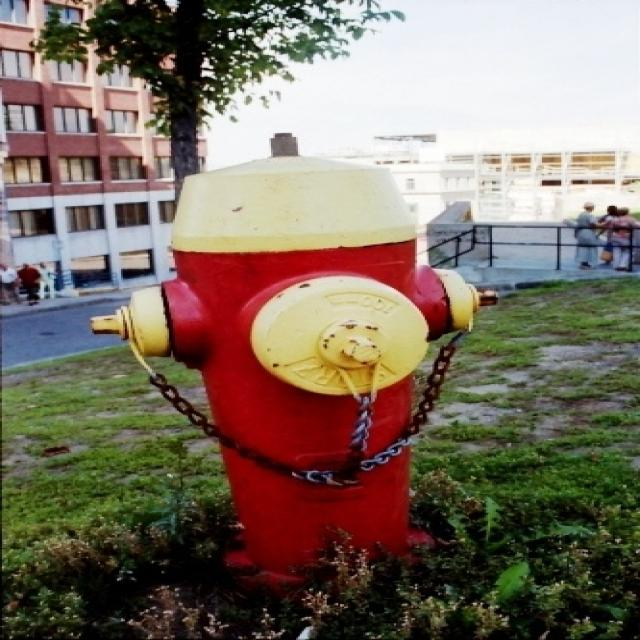fire_hydrant: (41, 98, 568, 556)
